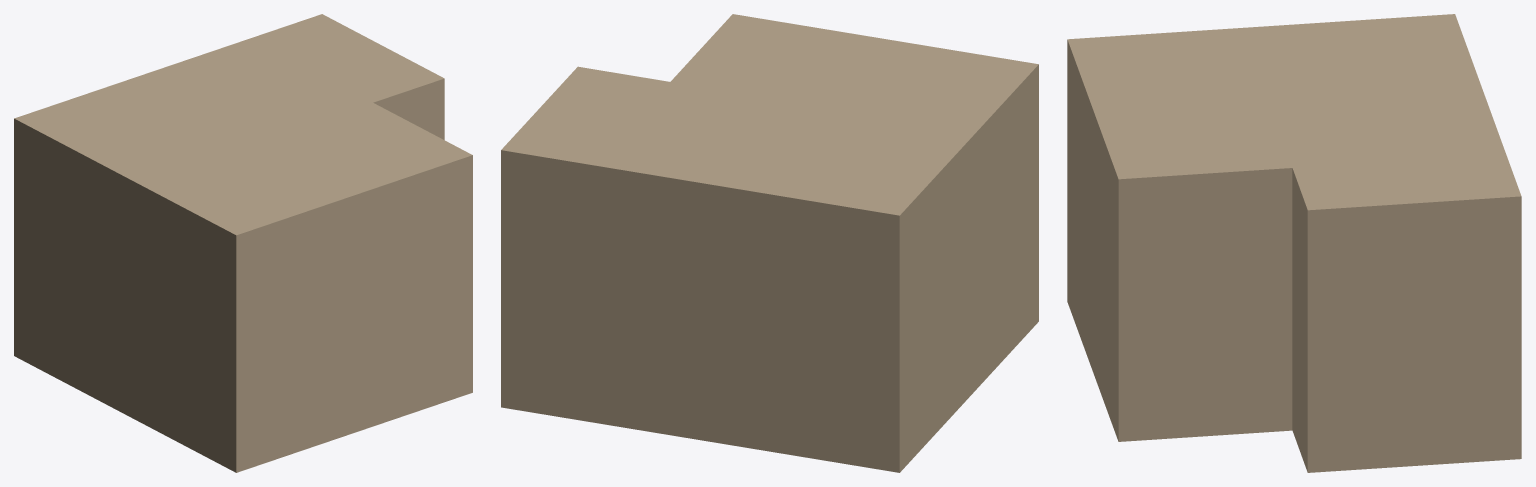
File: bld_101562221.dae
The picture shows the model from 3 angles, left to right: view 1: azimuth 30°, elevation 25°; view 2: azimuth 150°, elevation 25°; view 3: azimuth 270°, elevation 25°; orthographic projection. The views are drawn at different scales.
Parts seen in each view (by area): view 1: bld_101562221; view 2: bld_101562221; view 3: bld_101562221.
Part boxes in pixels (<box>): bld_101562221: <box>14,14,472,472</box>; bld_101562221: <box>501,14,1038,472</box>; bld_101562221: <box>1067,14,1521,472</box>.
Bounding box in the file's own units: 12.82 × 12.54 × 8.
